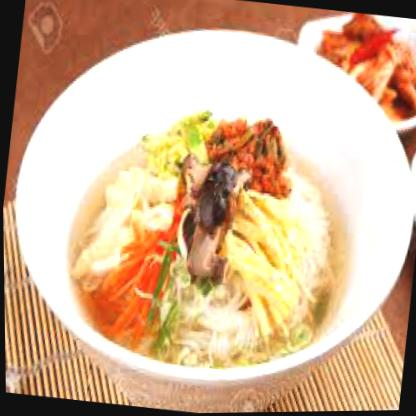Kimchi stew: (320, 9, 415, 117)
banquet noodles: (56, 83, 357, 383)
